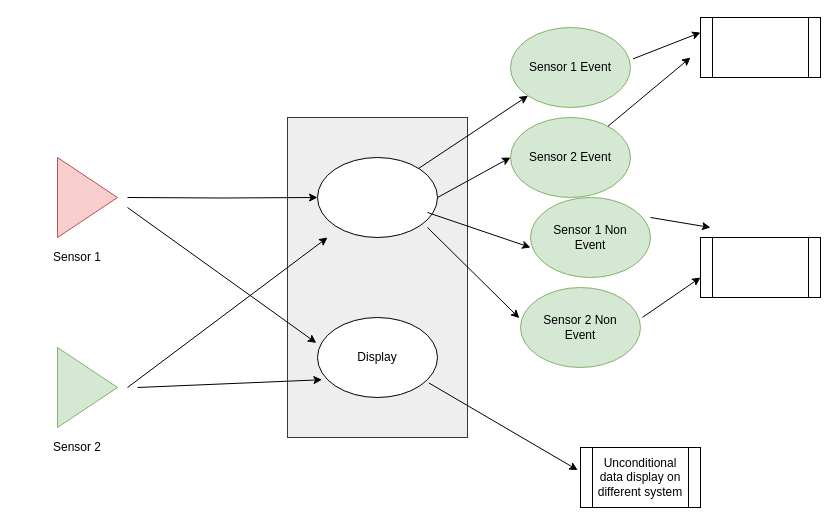
Image size: 838x525. Some labels were removed from this diagram. Here are the shapes that lost their labels. From the top down, the centre of each, then its label:
At [760,47]: "Data Transmission".
At [377,197]: "Event/Non event".
At [760,267]: "Cease All Operations".
